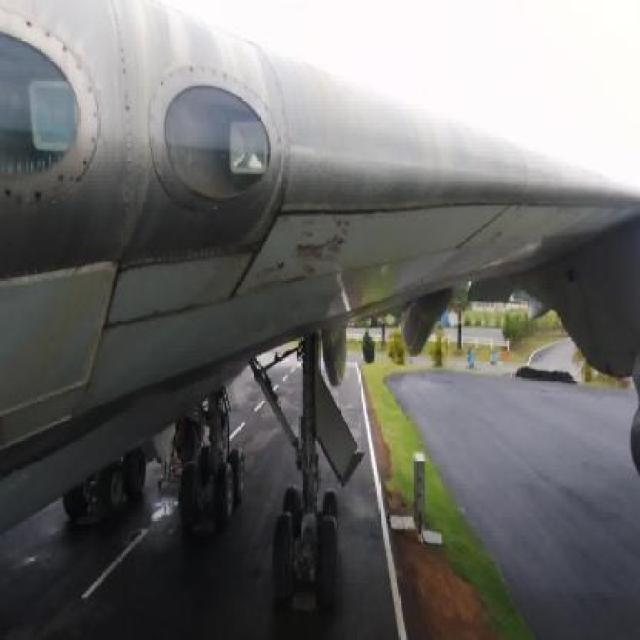Scartch: (233, 198, 370, 308)
